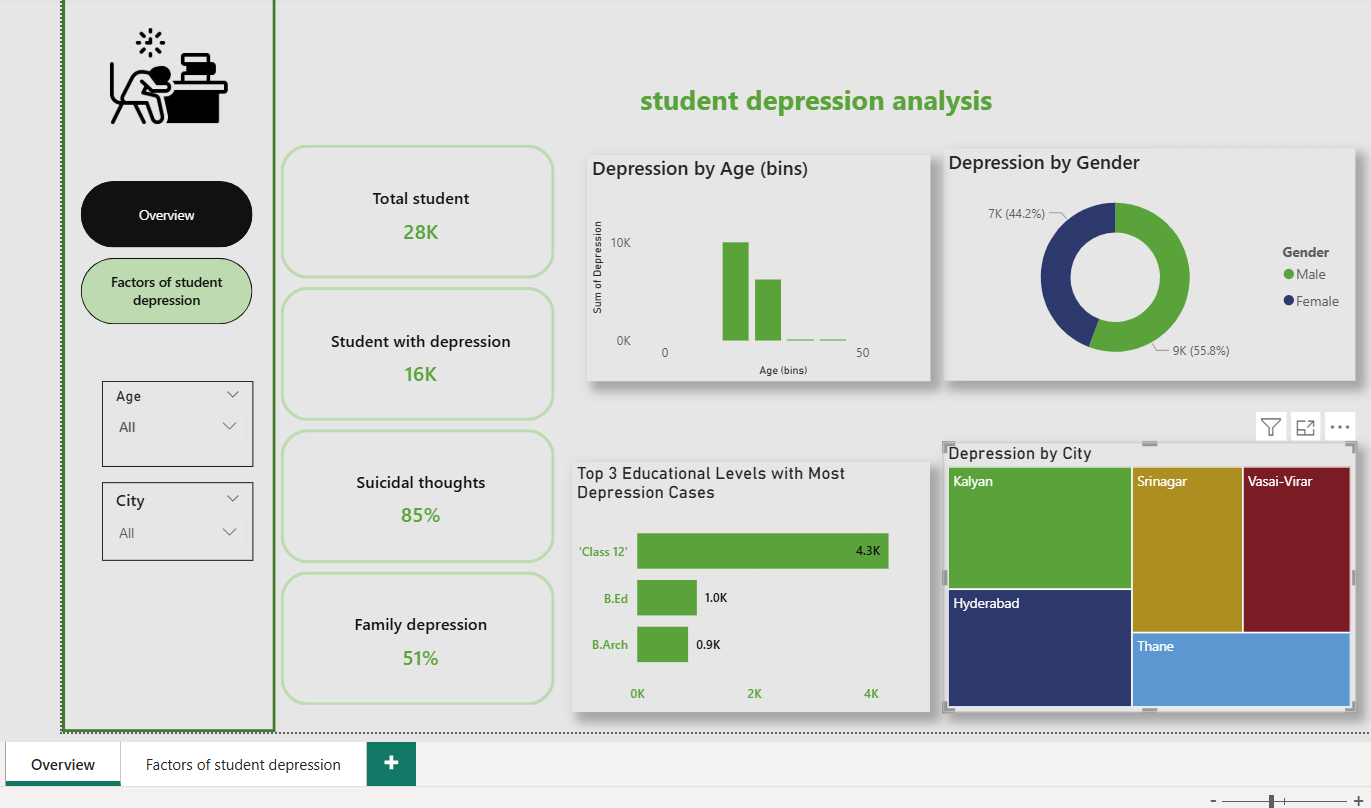

The dashboard page shown, as its layout file describes it:
{"tool":"powerbi","page":{"name":"Overview ","canvas":[1280,720],"ordinal":0},"visuals":[{"type":"slicer","fields":{"Values":["student_depression_dataset.Age"]},"box":[39.1,376.8,147.8,84.1],"z":0},{"type":"donutChart","title":" Depression by Gender","fields":{"Y":["Sum(student_depression_dataset.Depression)"],"Category":["student_depression_dataset.Gender"]},"box":[862.3,149.3,402.9,227.5],"z":1000},{"type":"treemap","fields":{"Group":["student_depression_dataset.City"],"Values":["Sum(student_depression_dataset.Depression)"]},"box":[862.1,456.1,403.5,264.1],"z":2000},{"type":"columnChart","title":"Depression by Age (bins)","fields":{"Category":["student_depression_dataset.Age (bins)"],"Y":["Sum(student_depression_dataset.Depression)"]},"box":[513,155.1,336.2,221.7],"z":3000},{"type":"textbox","box":[266.6,78.3,950.1,48.9],"z":5000},{"type":"shape","box":[0,0,209.1,720.2],"z":6000},{"type":"image","box":[29,15.9,150.7,124.6],"z":7000},{"type":"pageNavigator","box":[18.8,181.2,168.1,140.6],"z":8000},{"type":"cardVisual","fields":{"Data":["student_depression_dataset.total student","Sum(student_depression_dataset.Depression)","student_depression_dataset.suicidalthoughts","student_depression_dataset.percentagefamilydeprrssion"]},"box":[209.1,140.6,278.8,560.1],"z":9000},{"type":"barChart","title":"Top 3 Educational Levels with Most Depression Cases","fields":{"Category":["student_depression_dataset.Degree"],"Y":["Sum(student_depression_dataset.Depression)"]},"box":[498.6,456.5,350.7,244.9],"z":10000},{"type":"slicer","fields":{"Values":["student_depression_dataset.City"]},"box":[39.1,475.4,147.8,76.8],"z":11000},{"type":"shape","box":[720.2,140.6,280,579.6],"z":12000}]}

Visuals, with their boxes on the page's 1280x720 design canvas (x1, y1, x2, y2). These are canvas units, not pixel positions in the 1371x808 screenshot, which may show the page scaled, cropped or inside an application window:
slicer - student_depression_dataset.Age: (39, 377, 187, 461)
" Depression by Gender" donutChart: (862, 149, 1265, 377)
treemap - student_depression_dataset.City x Sum(student_depression_dataset.Depression): (862, 456, 1266, 720)
"Depression by Age (bins)" columnChart: (513, 155, 849, 377)
textbox: (267, 78, 1217, 127)
shape: (0, 0, 209, 720)
image: (29, 16, 180, 140)
pageNavigator: (19, 181, 187, 322)
cardVisual - student_depression_dataset.total student x Sum(student_depression_dataset.Depression): (209, 141, 488, 701)
"Top 3 Educational Levels with Most Depression Cases" barChart: (499, 456, 849, 701)
slicer - student_depression_dataset.City: (39, 475, 187, 552)
shape: (720, 141, 1000, 720)
